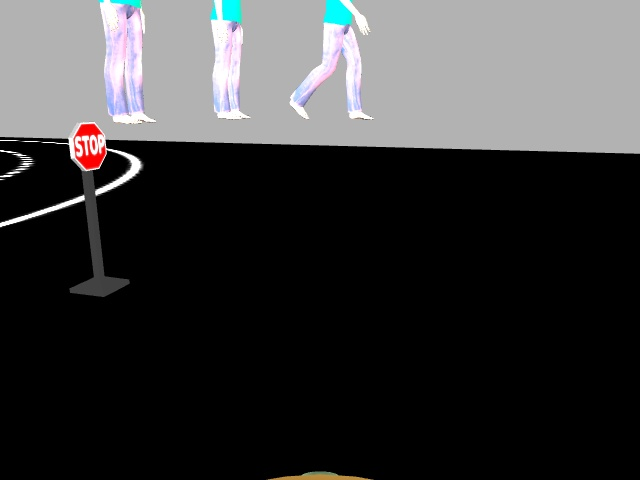Stop: (64, 120, 106, 171)
